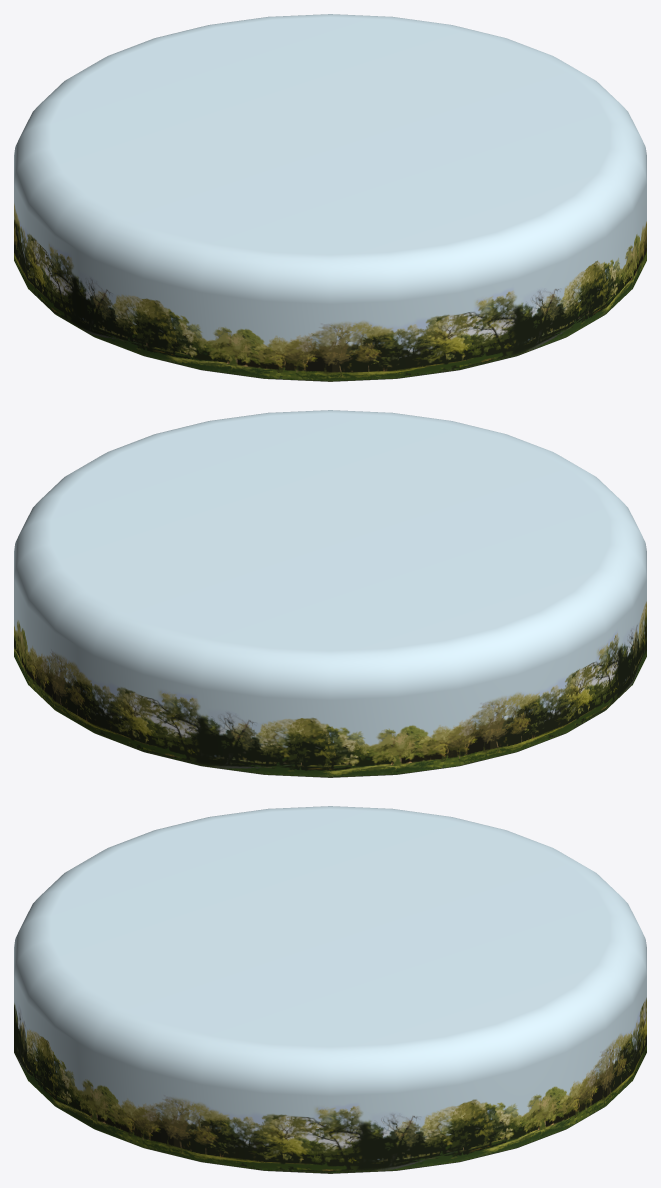
The model's file is Skybox.fbx.
The picture shows the model from 3 angles, top to bottom: view 1: azimuth 30°, elevation 25°; view 2: azimuth 150°, elevation 25°; view 3: azimuth 270°, elevation 25°; orthographic projection.
Visible parts, largest first — view 1: Skybox; view 2: Skybox; view 3: Skybox.
Boxes of the visible parts, bbox=[...] form: Skybox: bbox=[14, 14, 646, 381]; Skybox: bbox=[14, 410, 646, 777]; Skybox: bbox=[14, 806, 646, 1173].
Size of the model in its own units: 939 by 182 by 934.
Materials: 2 (1 with a texture image).
